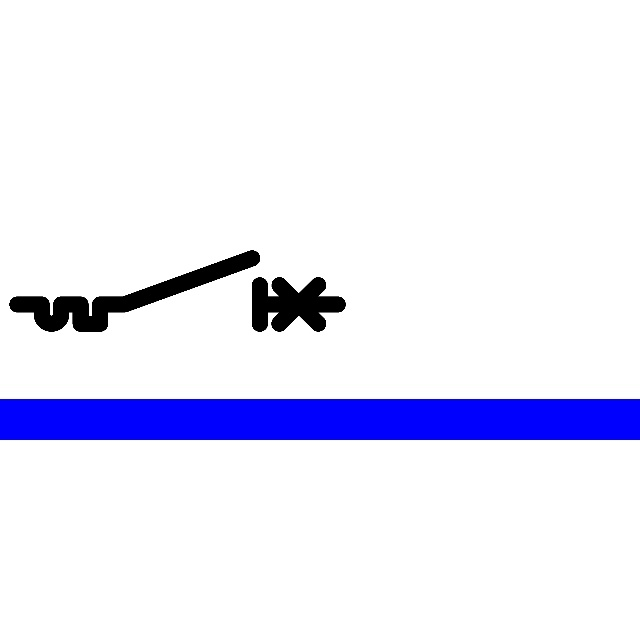interruptor_termomagnetico: (9, 250, 346, 332)
